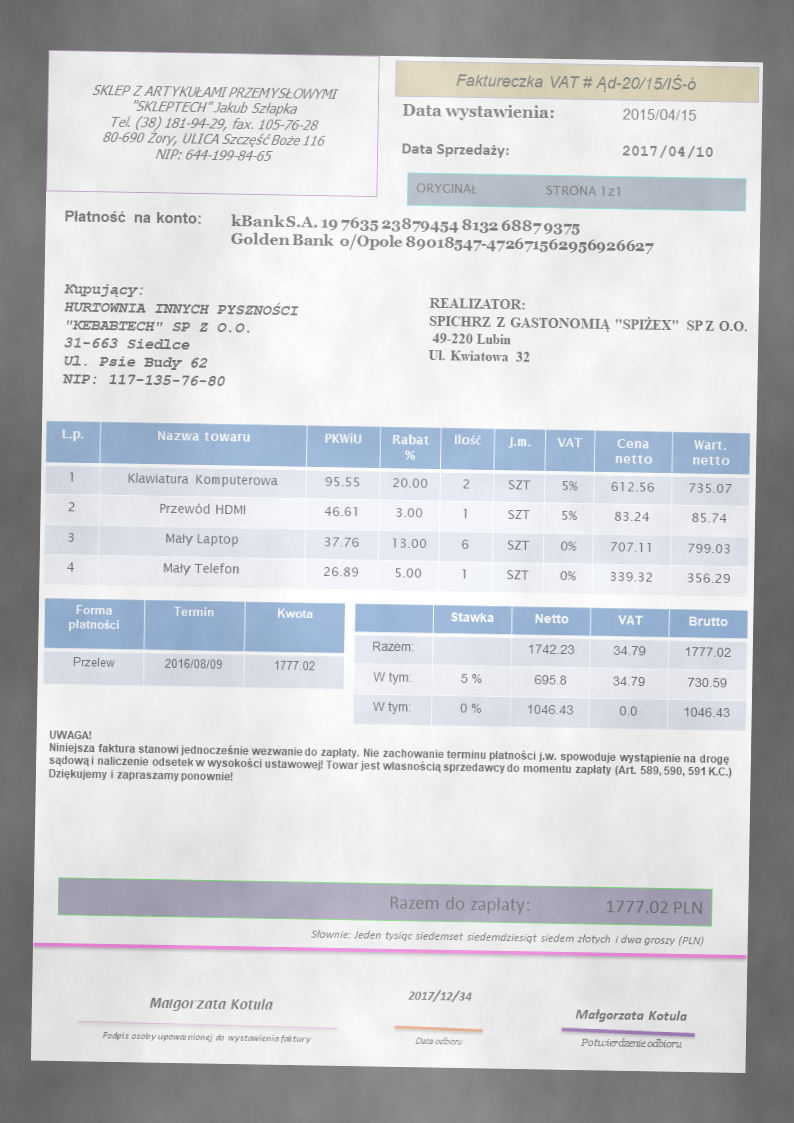Table: (41, 417, 752, 600), (349, 601, 749, 734), (42, 596, 347, 690)
TextBox: (45, 724, 736, 795), (57, 278, 302, 391), (424, 292, 752, 370), (87, 75, 342, 169), (226, 209, 658, 257), (308, 925, 710, 949), (385, 888, 704, 918), (451, 67, 703, 94), (413, 177, 624, 202), (96, 1027, 315, 1047), (399, 97, 559, 123), (58, 206, 206, 230), (146, 989, 277, 1015), (396, 137, 516, 162), (569, 1003, 693, 1025), (618, 138, 718, 162), (617, 100, 698, 127), (575, 1035, 686, 1052), (405, 986, 474, 1005), (411, 1033, 466, 1051)
